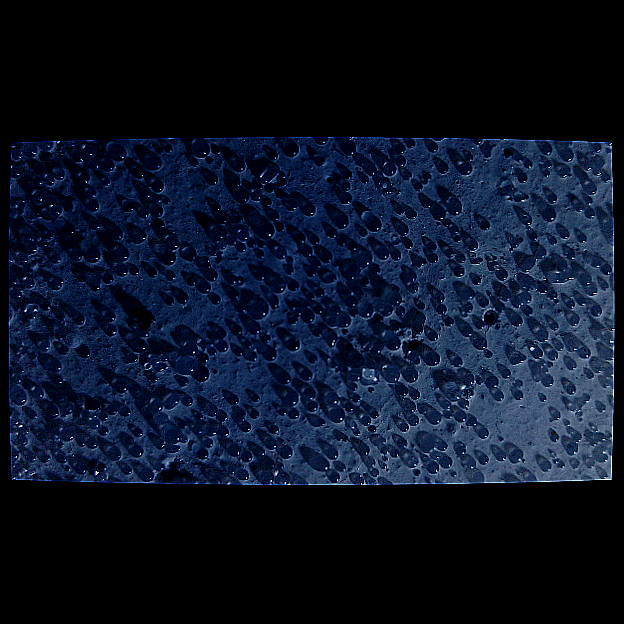GrassBeadSeg: (142, 257, 422, 475), (47, 288, 394, 372), (42, 141, 156, 352), (165, 311, 345, 442), (472, 145, 567, 348), (197, 141, 382, 231), (235, 345, 384, 447), (287, 139, 463, 213), (174, 214, 243, 394), (235, 345, 377, 432), (469, 330, 601, 423), (15, 246, 100, 388), (44, 139, 396, 173), (42, 394, 238, 454), (194, 369, 325, 457), (42, 407, 255, 460), (211, 321, 418, 373), (150, 153, 275, 237), (228, 392, 360, 466), (34, 163, 124, 263), (351, 369, 439, 471), (278, 368, 360, 472), (389, 304, 539, 358), (378, 248, 473, 333), (367, 374, 474, 448), (471, 288, 553, 384), (418, 150, 491, 257), (32, 190, 266, 223), (328, 408, 520, 447), (209, 345, 355, 395), (41, 292, 189, 340), (420, 332, 480, 449), (348, 350, 428, 436), (210, 154, 352, 202), (237, 175, 295, 289), (92, 142, 172, 222), (102, 162, 392, 184), (97, 159, 248, 201), (533, 373, 607, 454), (18, 381, 128, 435), (462, 183, 506, 317), (515, 337, 610, 399), (313, 325, 371, 424), (461, 160, 556, 220), (321, 164, 377, 262), (219, 150, 278, 241), (111, 146, 172, 234), (134, 279, 207, 350), (508, 325, 546, 461), (51, 138, 85, 288), (406, 219, 490, 279), (496, 374, 553, 460), (180, 302, 269, 356), (229, 175, 287, 257), (335, 351, 440, 396), (309, 352, 372, 426), (485, 425, 595, 467), (456, 410, 577, 447), (165, 142, 256, 191), (365, 276, 434, 339), (331, 422, 403, 480), (198, 364, 299, 404), (208, 423, 274, 483), (64, 434, 189, 465), (468, 437, 597, 467), (464, 288, 511, 370), (9, 276, 111, 313), (397, 141, 438, 233), (238, 407, 290, 479), (474, 432, 606, 460), (521, 260, 580, 322), (453, 173, 526, 223), (130, 341, 194, 394), (437, 143, 552, 172), (199, 255, 299, 288), (315, 156, 352, 241), (539, 373, 577, 454), (569, 401, 607, 478), (209, 345, 260, 401), (478, 425, 551, 464), (205, 352, 309, 379), (236, 407, 293, 456), (117, 185, 148, 275), (287, 199, 332, 260), (271, 278, 295, 390), (15, 251, 82, 291), (542, 143, 597, 191), (152, 161, 243, 190), (46, 173, 151, 198), (26, 141, 210, 155), (529, 182, 593, 222), (515, 340, 564, 392), (184, 393, 251, 431), (274, 252, 373, 277), (173, 445, 283, 467), (213, 294, 340, 313), (359, 414, 419, 454), (406, 375, 498, 401), (49, 357, 196, 373), (27, 452, 107, 481), (443, 398, 483, 456), (34, 176, 74, 233), (362, 173, 431, 206), (17, 402, 69, 444), (324, 190, 348, 281), (29, 409, 138, 429), (566, 349, 614, 394), (106, 426, 173, 458), (17, 367, 79, 401), (388, 328, 549, 341), (276, 434, 348, 463), (219, 181, 271, 221), (33, 388, 65, 452), (418, 181, 458, 232), (74, 147, 93, 254), (458, 432, 554, 453), (13, 388, 66, 426), (215, 174, 245, 240), (232, 289, 270, 341), (571, 402, 601, 467), (114, 167, 146, 227), (539, 358, 566, 429), (20, 224, 69, 263), (254, 173, 269, 300), (214, 201, 256, 245), (166, 278, 237, 304), (309, 352, 357, 390), (312, 405, 340, 470), (12, 403, 117, 420), (11, 168, 92, 190), (231, 289, 335, 306), (522, 291, 602, 313), (263, 304, 323, 333), (421, 264, 459, 309), (14, 345, 69, 376), (409, 397, 469, 425), (476, 377, 547, 400), (278, 221, 346, 245), (131, 217, 160, 273), (250, 324, 335, 343), (206, 422, 240, 469), (316, 416, 346, 469), (30, 351, 162, 363), (308, 400, 338, 452), (291, 305, 312, 379), (435, 162, 472, 204), (529, 291, 576, 324), (212, 144, 251, 183), (398, 374, 474, 394), (252, 189, 315, 213), (204, 394, 233, 445), (252, 309, 375, 321), (229, 211, 275, 243), (52, 171, 86, 214), (337, 140, 357, 213), (304, 269, 332, 321), (27, 452, 159, 463), (556, 340, 594, 378), (205, 154, 245, 190), (171, 367, 211, 403), (295, 314, 397, 328), (54, 167, 96, 201), (163, 157, 194, 203), (120, 404, 162, 437), (165, 223, 218, 249), (93, 277, 117, 334), (55, 374, 188, 384), (353, 429, 387, 468), (208, 174, 263, 198), (493, 383, 575, 399), (228, 274, 319, 288), (156, 420, 182, 469), (227, 461, 341, 472), (214, 269, 243, 312), (79, 322, 114, 357), (118, 243, 176, 264), (409, 268, 501, 281), (88, 158, 111, 210), (209, 250, 245, 283), (123, 178, 160, 210), (258, 248, 320, 267), (118, 353, 159, 381), (36, 140, 88, 162), (451, 460, 565, 470), (335, 263, 353, 326), (438, 410, 467, 449), (351, 302, 374, 351), (29, 302, 85, 322), (107, 311, 133, 354), (544, 164, 570, 207), (245, 229, 283, 258), (399, 389, 420, 441), (519, 281, 545, 323), (403, 348, 436, 381), (115, 145, 162, 168), (445, 397, 469, 442), (100, 410, 143, 435), (58, 425, 114, 444), (316, 407, 374, 425), (284, 139, 349, 155), (231, 443, 274, 467), (363, 415, 477, 424), (485, 350, 542, 368), (9, 276, 38, 311), (503, 449, 551, 470), (395, 155, 408, 232), (592, 264, 612, 314), (485, 155, 512, 192), (100, 426, 224, 434), (142, 331, 168, 369), (259, 196, 272, 271), (405, 384, 417, 465), (593, 330, 610, 386), (90, 402, 128, 427), (134, 204, 160, 240), (136, 338, 198, 353), (434, 329, 459, 366), (75, 152, 96, 196), (66, 201, 100, 228), (299, 296, 353, 313), (358, 276, 385, 310), (327, 448, 418, 458), (132, 382, 163, 411), (308, 292, 327, 339), (142, 299, 166, 336), (22, 424, 81, 439), (184, 225, 226, 246), (26, 272, 114, 282), (281, 371, 300, 417), (189, 275, 220, 303), (258, 239, 272, 301), (569, 369, 590, 410), (267, 347, 291, 382), (341, 249, 368, 279), (100, 425, 201, 433), (198, 447, 271, 458), (57, 396, 73, 446), (432, 409, 448, 458), (47, 201, 73, 231), (252, 392, 287, 414), (23, 143, 39, 191), (366, 155, 406, 174), (518, 143, 601, 152), (131, 445, 205, 455), (341, 313, 382, 331), (218, 340, 258, 358), (35, 386, 59, 416), (198, 340, 229, 363), (76, 435, 95, 472), (397, 300, 421, 329), (13, 374, 31, 412), (594, 337, 614, 370), (359, 143, 406, 157), (523, 159, 596, 168), (209, 241, 259, 254), (125, 198, 163, 215), (400, 389, 415, 431), (288, 311, 305, 348), (276, 221, 290, 265), (371, 447, 399, 469), (361, 289, 402, 304), (427, 141, 448, 170), (42, 300, 80, 316), (552, 409, 577, 433), (89, 244, 129, 259), (271, 150, 288, 185), (78, 436, 100, 463), (290, 315, 321, 334), (430, 411, 443, 456), (333, 213, 374, 227), (598, 402, 606, 473), (344, 168, 406, 177), (457, 238, 472, 275), (129, 351, 153, 374), (564, 260, 588, 283), (191, 144, 216, 166), (224, 326, 249, 348), (536, 247, 549, 289), (458, 444, 488, 462), (380, 462, 421, 475), (381, 248, 389, 314), (56, 166, 89, 182), (265, 337, 290, 358), (232, 301, 248, 333), (345, 401, 379, 416), (522, 213, 531, 269), (272, 293, 308, 307), (385, 336, 401, 367), (164, 245, 197, 260), (559, 418, 570, 463), (431, 198, 454, 219), (14, 288, 46, 303), (544, 247, 564, 271), (384, 365, 414, 381), (39, 340, 87, 350), (251, 407, 274, 427), (286, 258, 316, 273), (420, 404, 452, 418), (44, 174, 59, 203), (29, 228, 54, 245), (399, 438, 424, 455), (588, 160, 609, 180), (168, 269, 196, 284), (205, 405, 217, 440), (470, 219, 484, 249), (141, 208, 164, 226), (57, 441, 71, 470), (353, 296, 380, 311), (355, 457, 375, 477), (154, 395, 194, 405), (254, 436, 274, 456), (234, 161, 267, 173), (317, 156, 366, 164), (420, 398, 446, 413), (459, 325, 469, 364), (312, 387, 338, 402), (139, 193, 155, 217), (331, 471, 363, 483), (554, 349, 573, 369), (104, 160, 142, 170), (24, 276, 58, 287), (217, 322, 243, 336), (404, 399, 432, 412), (91, 270, 110, 289), (20, 253, 60, 262), (413, 468, 458, 476), (99, 464, 131, 475), (179, 281, 211, 292), (133, 437, 165, 448), (55, 344, 64, 383), (180, 410, 199, 428), (87, 416, 98, 447), (241, 444, 262, 460), (501, 378, 523, 393), (230, 270, 266, 279), (403, 138, 411, 178), (271, 188, 281, 220), (512, 296, 523, 325), (250, 236, 265, 257), (12, 168, 33, 183), (501, 367, 522, 382), (584, 143, 596, 169), (571, 430, 581, 461), (271, 404, 282, 432), (150, 371, 184, 380), (132, 264, 157, 276), (112, 227, 142, 237), (566, 340, 577, 367), (587, 347, 611, 359), (264, 471, 288, 483), (476, 352, 485, 383), (430, 455, 453, 467), (150, 267, 175, 278), (230, 234, 246, 251), (294, 199, 311, 215), (558, 146, 575, 162), (91, 159, 108, 175), (41, 238, 56, 256), (57, 452, 84, 462), (551, 409, 559, 441), (209, 405, 227, 419), (591, 256, 598, 292), (218, 410, 228, 435), (17, 353, 30, 372), (266, 176, 283, 190), (339, 236, 357, 249), (98, 461, 127, 469), (345, 381, 353, 410), (266, 438, 289, 448), (50, 403, 73, 413), (414, 170, 426, 189), (503, 289, 517, 305), (528, 158, 552, 167), (25, 233, 37, 251), (501, 268, 508, 298), (99, 403, 112, 419), (573, 340, 586, 356), (367, 457, 379, 474), (601, 432, 608, 461), (344, 174, 369, 182), (206, 255, 214, 280), (193, 410, 204, 428), (424, 170, 431, 198), (75, 147, 90, 160), (265, 188, 286, 197), (218, 240, 241, 248), (420, 449, 435, 461), (598, 256, 608, 274), (229, 445, 249, 454), (598, 362, 606, 384), (306, 387, 317, 403), (515, 152, 523, 173), (540, 347, 554, 359), (590, 437, 597, 461), (234, 409, 248, 421), (247, 337, 254, 360), (342, 168, 350, 188), (25, 233, 44, 241), (341, 427, 360, 435), (542, 158, 550, 176), (399, 138, 415, 147), (316, 287, 324, 305), (26, 175, 42, 184), (564, 419, 575, 432), (212, 201, 223, 213), (250, 320, 261, 332), (142, 467, 153, 479), (381, 444, 395, 453), (413, 321, 424, 332), (12, 417, 24, 427), (173, 436, 181, 451), (153, 192, 166, 201), (588, 273, 593, 295), (593, 166, 604, 175), (540, 360, 553, 367), (404, 238, 413, 247), (429, 252, 438, 261), (328, 228, 337, 237), (297, 233, 306, 242), (446, 247, 455, 256), (472, 274, 481, 283), (476, 318, 485, 327), (566, 249, 575, 258), (578, 296, 586, 306), (585, 195, 593, 205), (576, 201, 584, 211), (393, 249, 401, 258), (428, 240, 436, 249), (359, 226, 367, 235), (409, 282, 417, 291), (371, 263, 379, 272), (436, 292, 444, 301), (311, 234, 319, 243), (308, 268, 316, 277), (408, 208, 416, 217), (396, 203, 404, 212), (458, 252, 466, 261), (446, 315, 454, 324), (480, 297, 488, 306), (549, 289, 557, 298), (550, 319, 558, 328), (566, 299, 574, 308), (529, 230, 537, 239), (561, 228, 569, 237), (578, 233, 587, 241), (549, 235, 557, 244), (601, 280, 609, 289), (548, 192, 556, 201), (542, 362, 548, 373), (438, 304, 446, 312), (397, 305, 405, 313), (511, 238, 519, 246), (304, 246, 311, 255), (465, 302, 472, 311), (497, 302, 504, 311), (586, 207, 593, 216), (525, 306, 532, 314), (367, 385, 374, 392), (485, 289, 492, 296), (414, 357, 420, 364), (382, 454, 389, 460), (379, 436, 385, 443), (460, 460, 467, 466), (552, 457, 558, 464), (467, 155, 473, 162), (422, 178, 428, 185), (342, 327, 348, 333), (498, 435, 504, 441), (454, 235, 460, 241), (578, 416, 583, 423)
